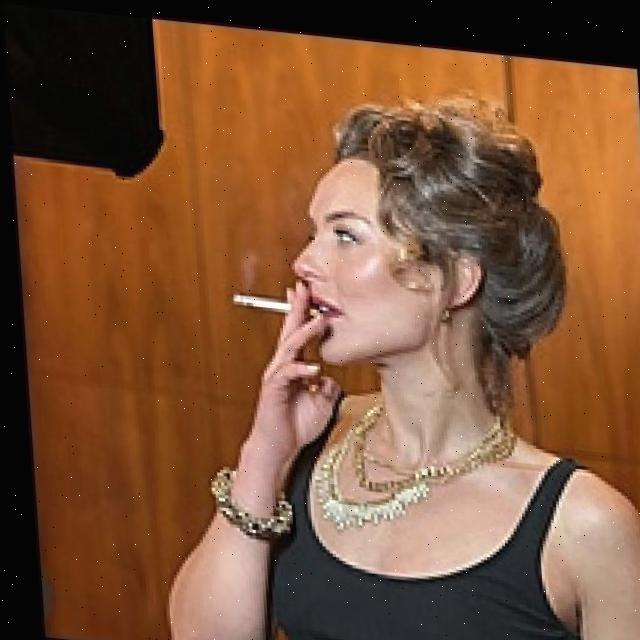cigarette: (227, 286, 313, 313)
